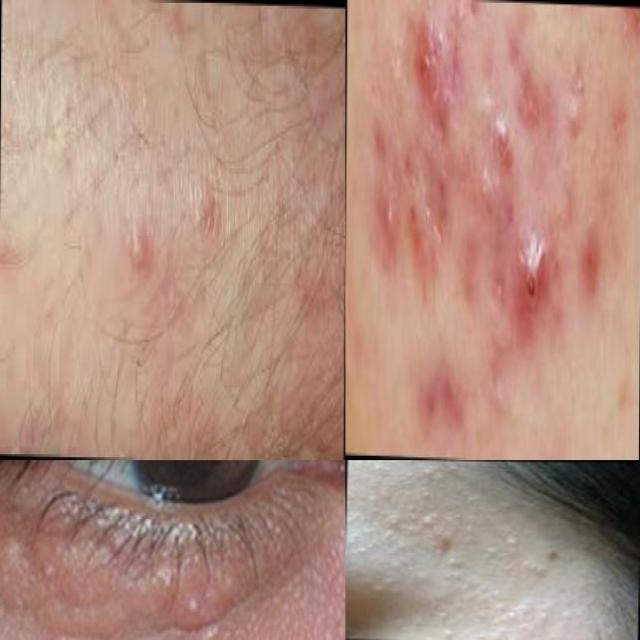acne_scars: (419, 339, 473, 450)
comedone: (473, 600, 560, 636), (401, 605, 462, 638), (402, 460, 469, 487), (360, 564, 406, 598), (522, 561, 552, 588), (492, 527, 528, 547)
cystic: (512, 233, 556, 360)
milium: (174, 603, 230, 640)
papule: (405, 28, 449, 118), (369, 175, 396, 254), (494, 110, 517, 175), (423, 525, 466, 556)
pustule: (121, 211, 152, 284)
syringoma: (0, 532, 73, 610), (101, 552, 195, 610)
